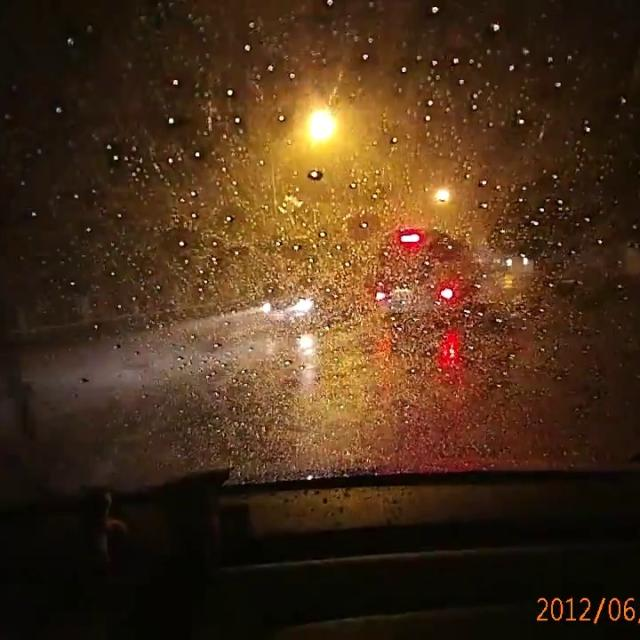Car: (260, 277, 336, 330)
